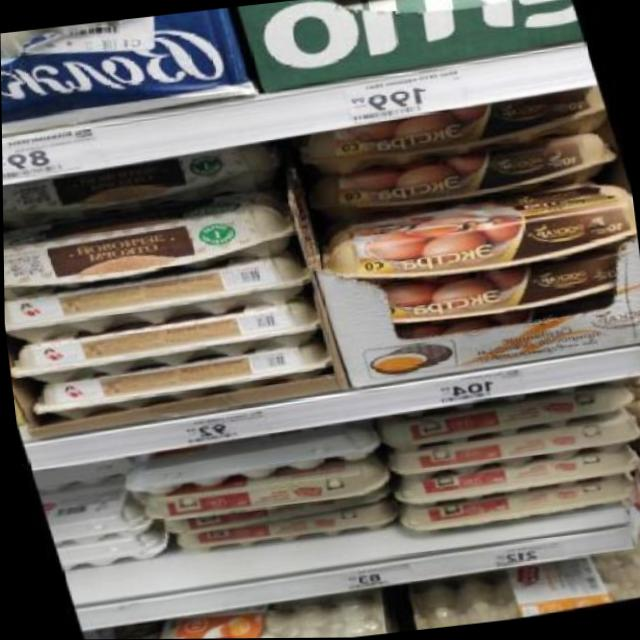Egg: (311, 176, 639, 299), (2, 182, 299, 303), (298, 126, 622, 228), (287, 82, 611, 181), (2, 139, 285, 237), (380, 249, 632, 332), (371, 380, 637, 457), (379, 410, 640, 487), (132, 452, 391, 529), (383, 440, 640, 514), (383, 467, 640, 540), (171, 497, 394, 563)
